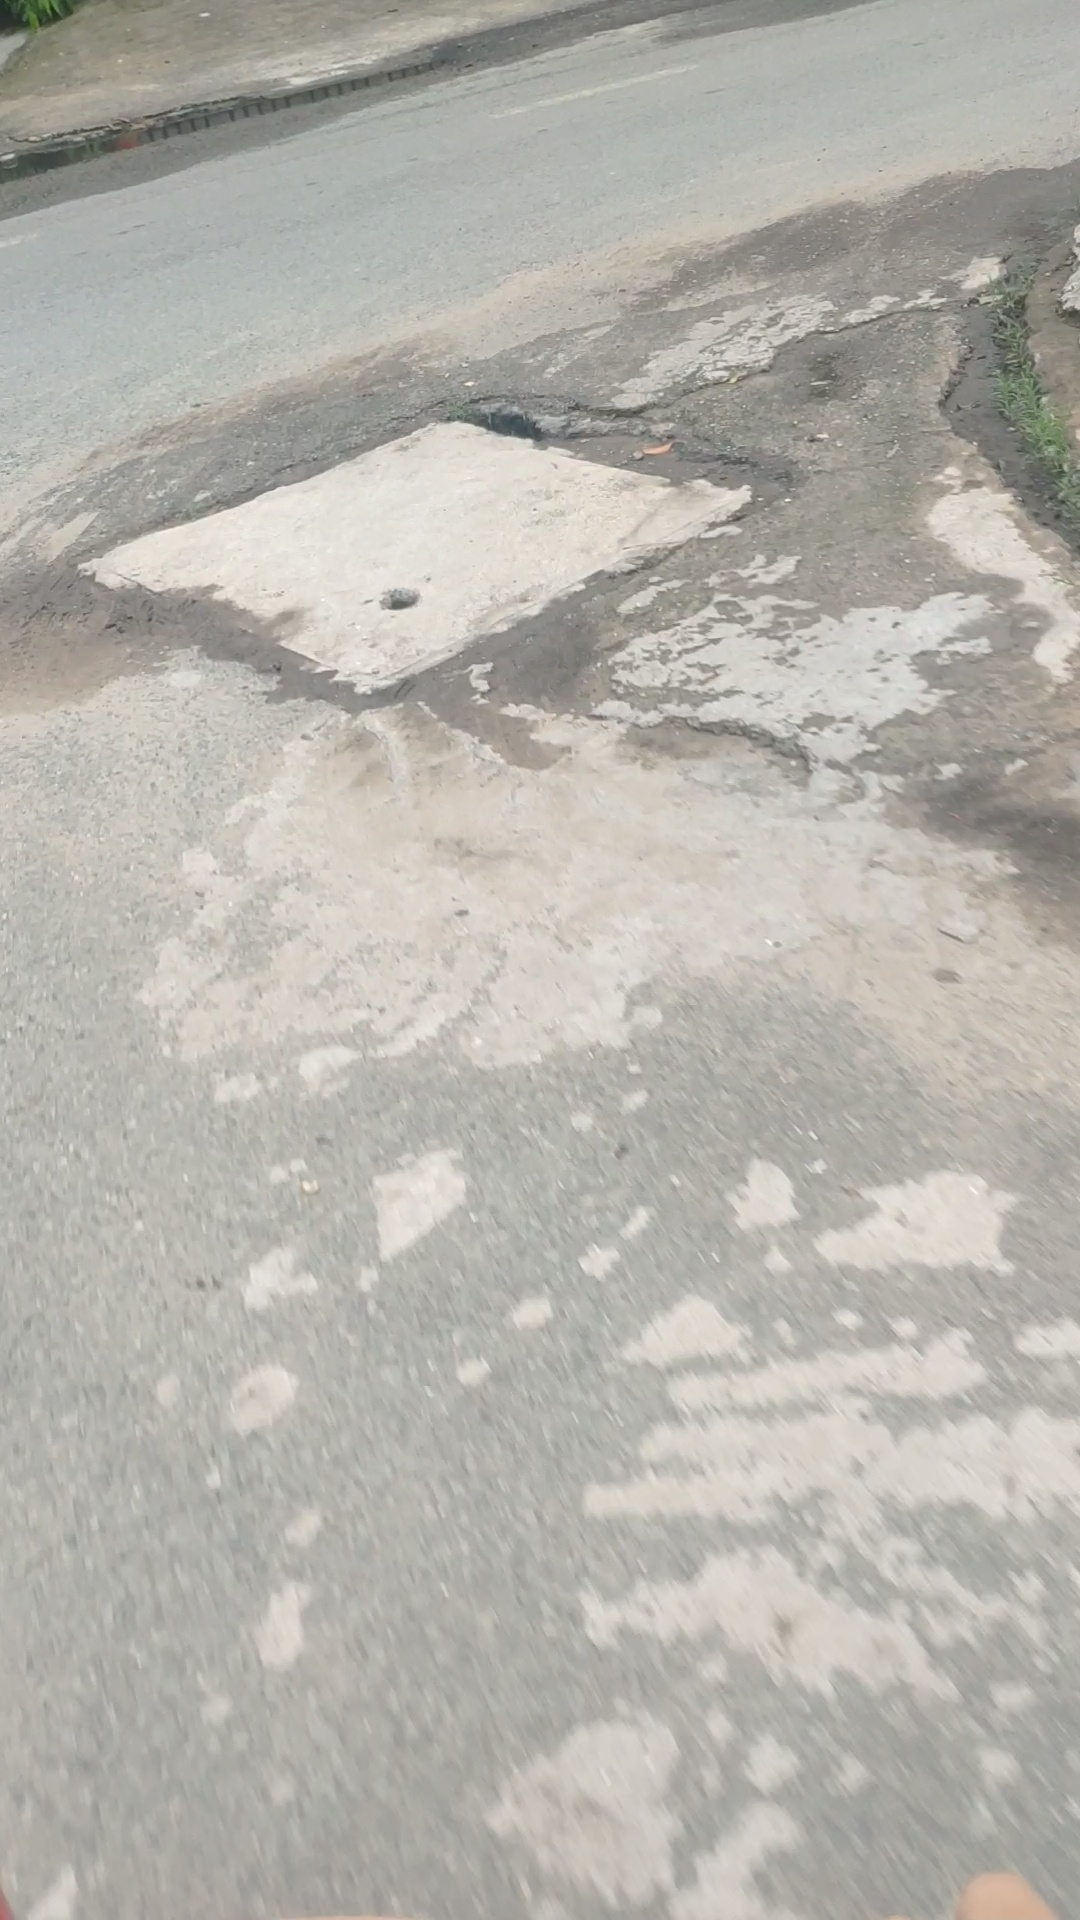hole: (484, 382, 814, 485)
